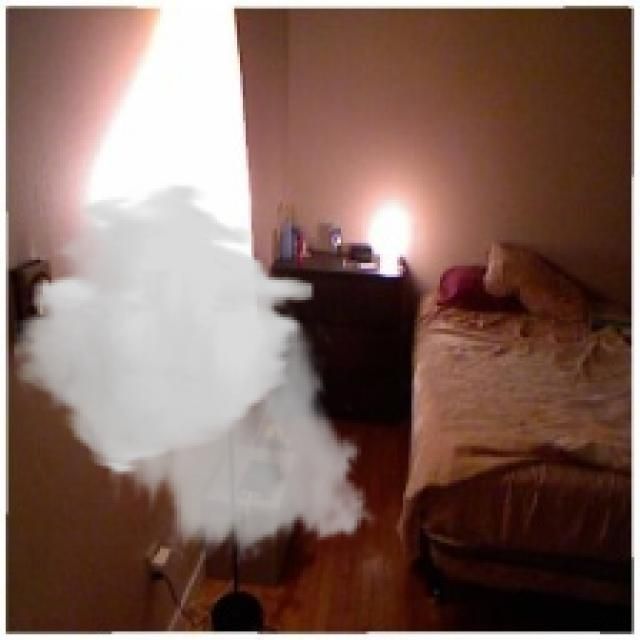smoke: (14, 183, 383, 563)
